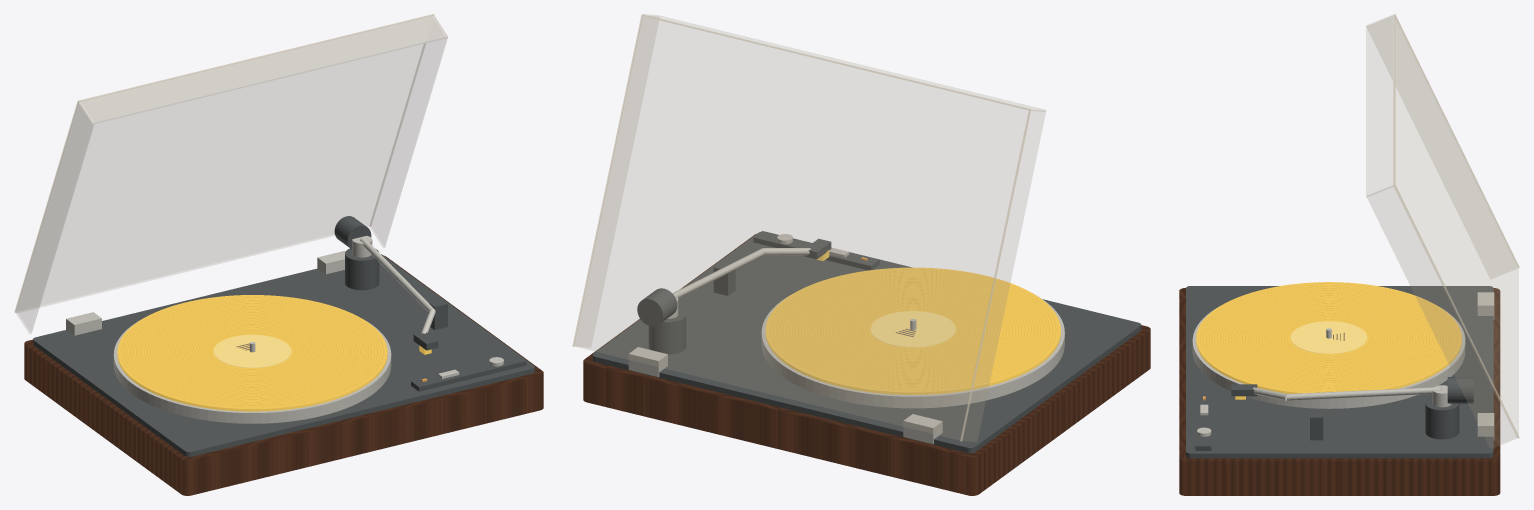
Rendered from reference-turntable.glb.
The picture shows the model from 3 angles, left to right: view 1: azimuth 30°, elevation 25°; view 2: azimuth 150°, elevation 25°; view 3: azimuth 270°, elevation 25°; orthographic projection. The views are drawn at different scales.
Visible parts, largest first — view 1: Clear raised dust cover, Black inset top plate, Amber vinyl, Walnut plinth, Clear cover front, Clear cover side -0.225, Clear cover side 0.225, Machined platter, Ivory limewash, Front control strip, Tonearm bearing, Lid front edge (+3 smaller); view 2: Clear raised dust cover, Amber vinyl, Black inset top plate, Walnut plinth, Clear cover side 0.225, Clear cover side -0.225, Machined platter, Ivory limewash, Tonearm bearing, Clear cover front, Rear counterweight, Front control strip (+6 smaller); view 3: Amber vinyl, Black inset top plate, Clear raised dust cover, Walnut plinth, Clear cover side 0.225, Clear cover side -0.225, Clear cover front, Machined platter, Ivory limewash, Tonearm bearing, Tonearm tube, Front control strip (+6 smaller).
Part boxes in pixels (x1,y1,x2,y2): Clear raised dust cover: (16,16,431,312); Black inset top plate: (33,254,534,456); Amber vinyl: (117,295,387,411); Walnut plinth: (24,256,543,495); Clear cover front: (79,15,447,123); Clear cover side -0.225: (16,102,94,333); Clear cover side 0.225: (369,16,447,247); Machined platter: (113,320,391,423); Ivory limewash: (213,334,291,367); Front control strip: (411,355,526,391); Tonearm bearing: (345,248,379,290); Lid front edge: (78,14,433,101); Clear raised dust cover: (574,16,1028,439); Amber vinyl: (765,267,1060,394); Black inset top plate: (592,231,1141,453); Walnut plinth: (583,233,1150,495); Clear cover side 0.225: (575,16,659,347); Clear cover side -0.225: (960,110,1045,441); Machined platter: (761,293,1064,408); Ivory limewash: (870,311,955,347); Tonearm bearing: (648,308,686,354); Clear cover front: (643,14,1045,111); Rear counterweight: (637,288,677,326); Front control strip: (753,231,879,270); Amber vinyl: (1196,282,1461,393); Black inset top plate: (1186,286,1493,458); Clear raised dust cover: (1393,16,1518,437); Walnut plinth: (1179,288,1500,495); Clear cover side 0.225: (1367,185,1517,448); Clear cover side -0.225: (1367,16,1517,278); Clear cover front: (1366,15,1393,196); Machined platter: (1192,307,1465,408); Ivory limewash: (1290,321,1367,353); Tonearm bearing: (1425,397,1459,439); Tonearm tube: (1286,387,1441,400); Front control strip: (1195,395,1211,450).
Size of the model in its own units: 0.46 by 0.3967 by 0.3819.
Materials: 11 (1 with a texture image).
